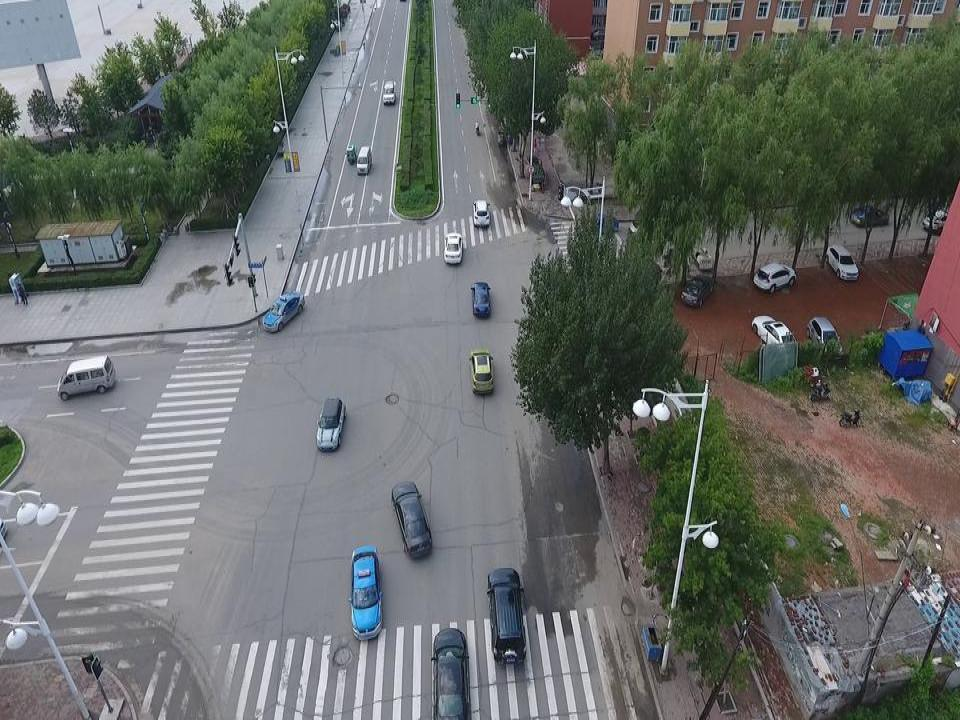car: (486, 568, 524, 665), (430, 628, 469, 720), (347, 547, 382, 641), (391, 483, 434, 557), (750, 313, 797, 359), (261, 290, 307, 330), (315, 396, 346, 451), (807, 316, 842, 361), (825, 243, 860, 281), (753, 262, 795, 290), (682, 272, 714, 308), (468, 350, 494, 394), (850, 203, 890, 228), (922, 210, 958, 234), (629, 215, 663, 236), (471, 283, 491, 316), (444, 232, 463, 264), (473, 200, 491, 228)
van: (55, 355, 113, 400), (356, 146, 372, 175), (382, 81, 395, 104)
